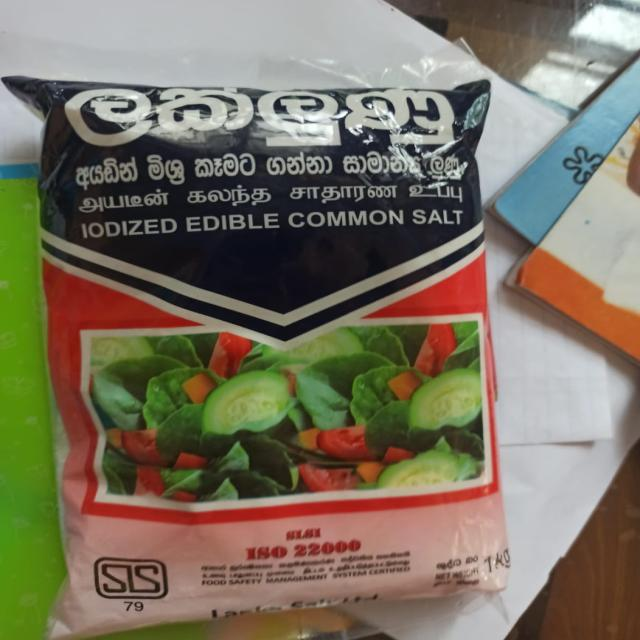Lak Lunu: (0, 30, 535, 639)
